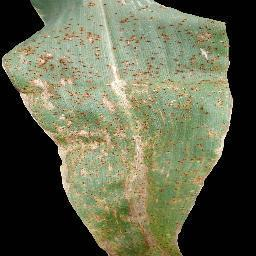Corn_Common_Rust: (3, 0, 236, 200), (67, 197, 199, 256)
